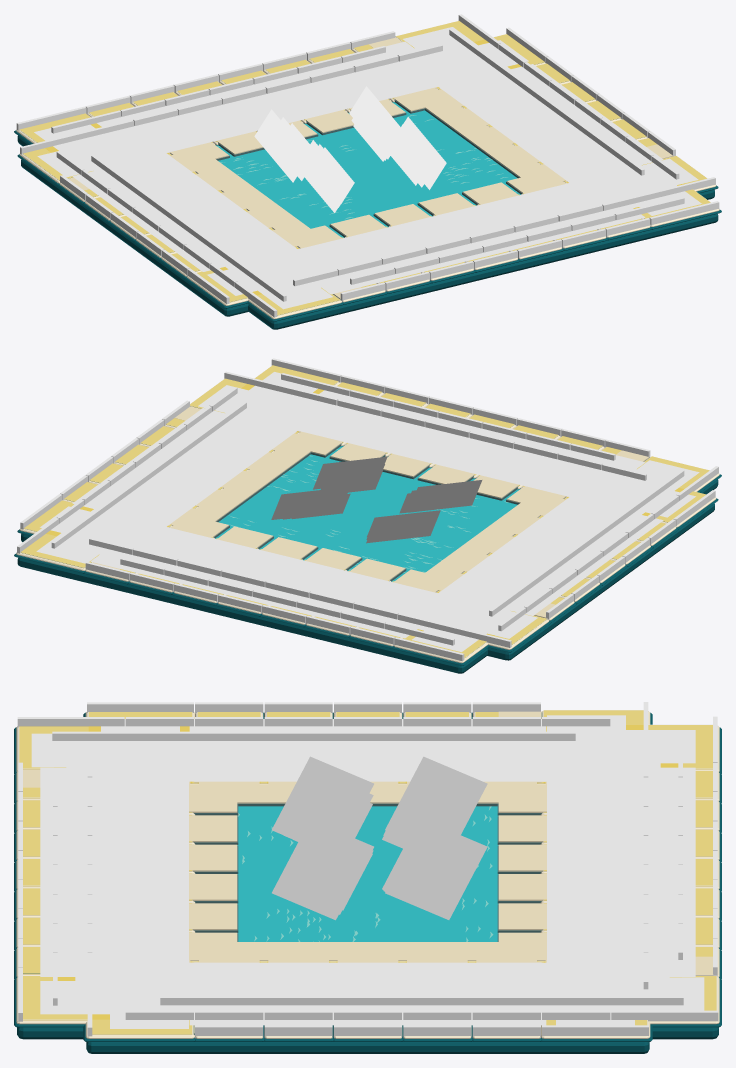
The model's file is board-layout.glb.
3 views of the same model, one above another, from view 1: azimuth 30°, elevation 25°; view 2: azimuth 150°, elevation 25°; view 3: azimuth 270°, elevation 25° (orthographic). The views are drawn at different scales.
Parts seen in each view (by area): view 1: platform_28 / Inset cartoon sea, platform_32 / Deep teal game board, platform_32 / Inset cartoon sea, platform_30 / Deep teal game board, island_32_3, island_32_1, wreck_26_5, wreck_26_20, wreck_26_19, wreck_26_3, wreck_28_24, wreck_26_6 (+100 smaller); view 2: platform_26 / Inset cartoon sea, platform_32 / Deep teal game board, platform_28 / Inset cartoon sea, platform_30 / Deep teal game board, island_32_0, island_32_2, wreck_26_0, wreck_26_4, wreck_26_25, wreck_26_3, wreck_26_1, wreck_26_14 (+92 smaller); view 3: platform_30 / Inset cartoon sea, platform_26 / Inset cartoon sea, platform_30 / Deep teal game board, island_32_1, island_32_3, platform_28 / Inset cartoon sea, platform_32 / Inset cartoon sea, wreck_26_1, wreck_26_17, wreck_26_3, wreck_26_5, wreck_26_19 (+180 smaller).
Boxes of the visible parts, x1,y1,x2,y2 form: platform_28 / Inset cartoon sea: [219, 102, 520, 237]; platform_32 / Deep teal game board: [17, 135, 718, 329]; platform_32 / Inset cartoon sea: [217, 114, 456, 236]; platform_30 / Deep teal game board: [21, 159, 714, 316]; island_32_3: [391, 117, 446, 189]; island_32_1: [349, 86, 400, 159]; wreck_26_5: [343, 226, 421, 259]; wreck_26_20: [406, 51, 484, 84]; wreck_26_19: [360, 66, 437, 98]; wreck_26_3: [431, 204, 503, 237]; wreck_28_24: [477, 103, 555, 133]; wreck_26_6: [298, 237, 370, 270]; platform_26 / Inset cartoon sea: [215, 446, 520, 579]; platform_32 / Deep teal game board: [17, 479, 718, 673]; platform_28 / Inset cartoon sea: [271, 446, 496, 581]; platform_30 / Deep teal game board: [21, 503, 714, 660]; island_32_0: [366, 510, 440, 543]; island_32_2: [408, 480, 482, 512]; wreck_26_0: [242, 396, 320, 428]; wreck_26_4: [431, 442, 509, 475]; wreck_26_25: [219, 418, 296, 451]; wreck_26_3: [387, 431, 465, 464]; wreck_26_1: [298, 410, 376, 442]; wreck_26_14: [361, 581, 437, 614]; platform_30 / Inset cartoon sea: [237, 806, 498, 941]; platform_26 / Inset cartoon sea: [238, 806, 498, 941]; platform_30 / Deep teal game board: [86, 1041, 649, 1053]; island_32_1: [385, 819, 487, 919]; island_32_3: [272, 819, 373, 920]; platform_28 / Inset cartoon sea: [238, 806, 497, 941]; platform_32 / Inset cartoon sea: [238, 806, 498, 930]; wreck_26_1: [110, 928, 188, 962]; wreck_26_17: [547, 870, 625, 903]; wreck_26_3: [110, 870, 188, 903]; wreck_26_5: [110, 811, 188, 844]; wreck_26_19: [547, 928, 625, 962].
Bounding box in the file's own units: 26.06 × 7.27 × 23.74.
